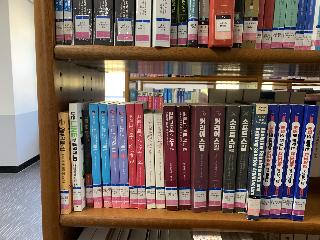book-spine: (292, 104, 319, 222), (278, 104, 304, 220), (268, 104, 291, 219), (247, 104, 268, 220), (231, 105, 253, 212), (259, 104, 279, 219), (192, 106, 210, 213), (207, 105, 225, 211), (222, 106, 239, 213), (162, 106, 178, 211), (107, 104, 121, 208), (177, 107, 191, 210), (116, 104, 129, 209), (89, 104, 102, 208), (99, 104, 112, 208), (69, 103, 81, 211), (126, 104, 138, 209), (134, 104, 146, 209), (144, 114, 156, 209), (82, 110, 93, 206), (154, 115, 165, 209), (59, 113, 68, 214)
